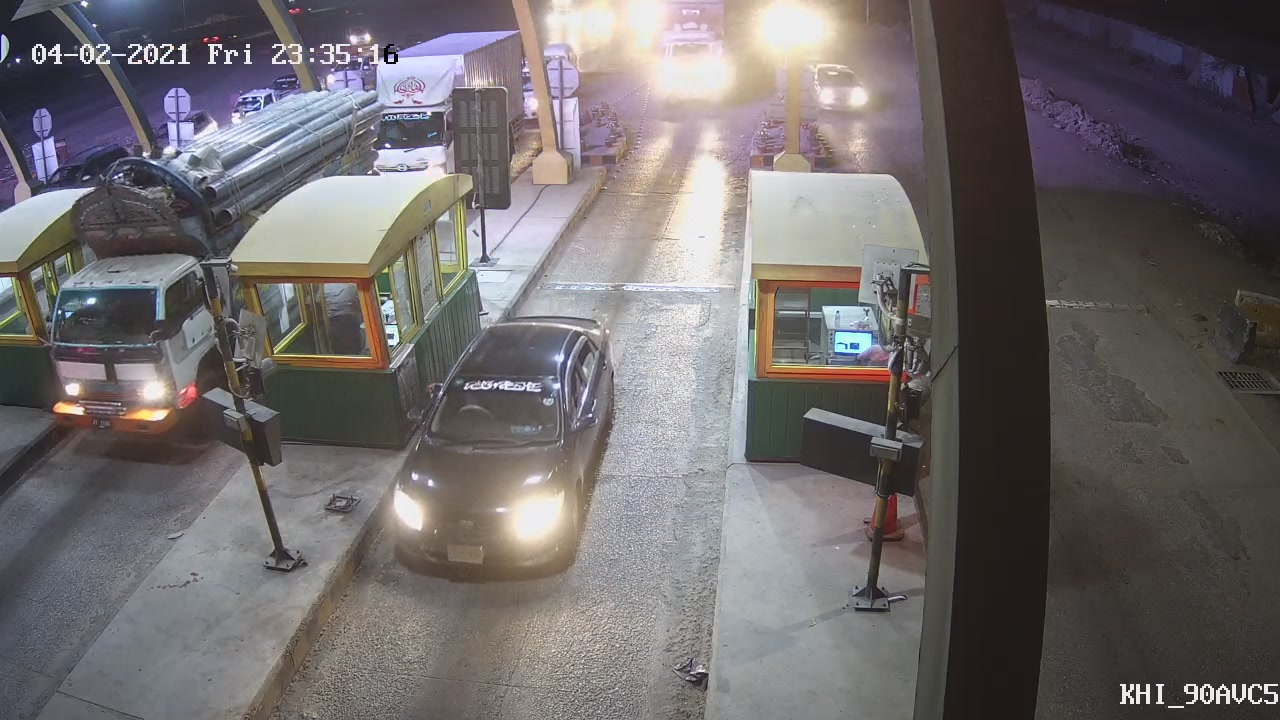F1: (395, 312, 615, 576)
